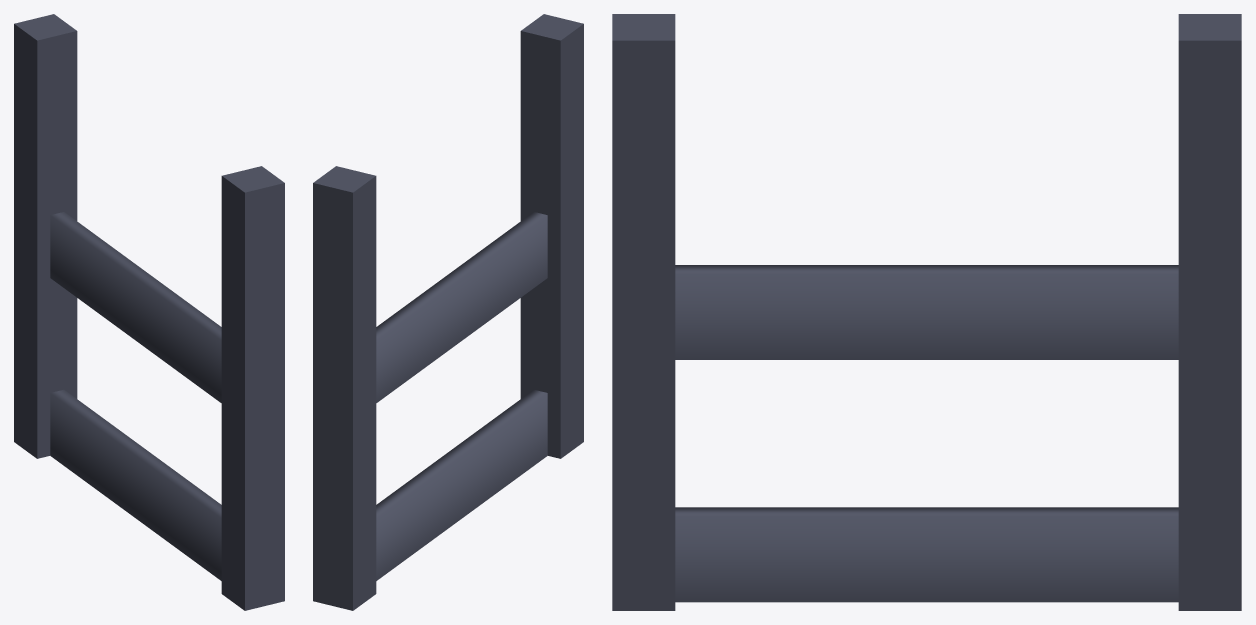
Rendered from poles-horizontal.glb.
3 views of the same model, side by side, from view 1: azimuth 30°, elevation 25°; view 2: azimuth 150°, elevation 25°; view 3: azimuth 270°, elevation 25° (orthographic). The views are drawn at different scales.
Parts seen in each view (by area): view 1: poles-horizontal; view 2: poles-horizontal; view 3: poles-horizontal.
Boxes of the visible parts, x1,y1,x2,y2 form: poles-horizontal: [14, 14, 284, 610]; poles-horizontal: [313, 14, 583, 610]; poles-horizontal: [612, 14, 1241, 610].
Bounding box in the file's own units: 0.1 × 1 × 1.
1 material, 1 textured.
